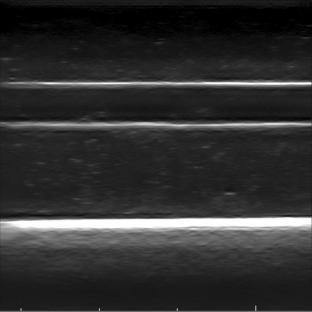vessel: (5, 78, 308, 131)
